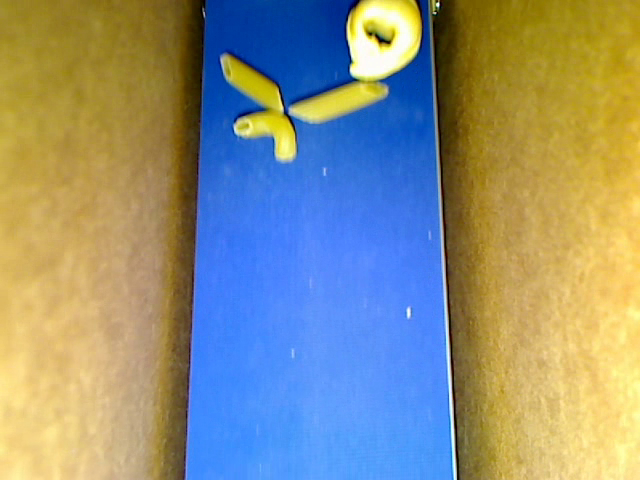elbow: (233, 110, 297, 163)
penne: (287, 78, 389, 122), (219, 52, 282, 114)
tortellini: (347, 1, 422, 82)
